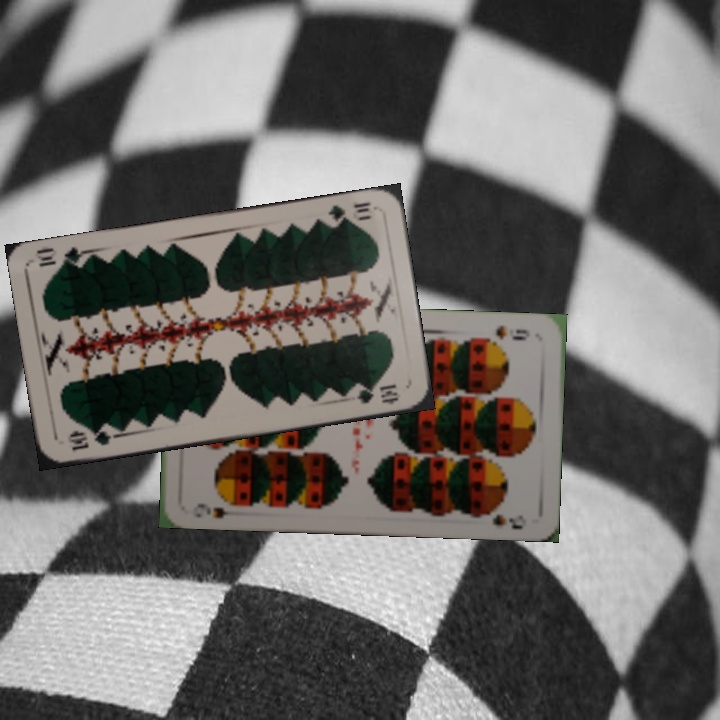G10: (63, 425, 119, 454), (324, 198, 377, 227)
S9: (191, 494, 243, 521), (492, 321, 532, 343)
